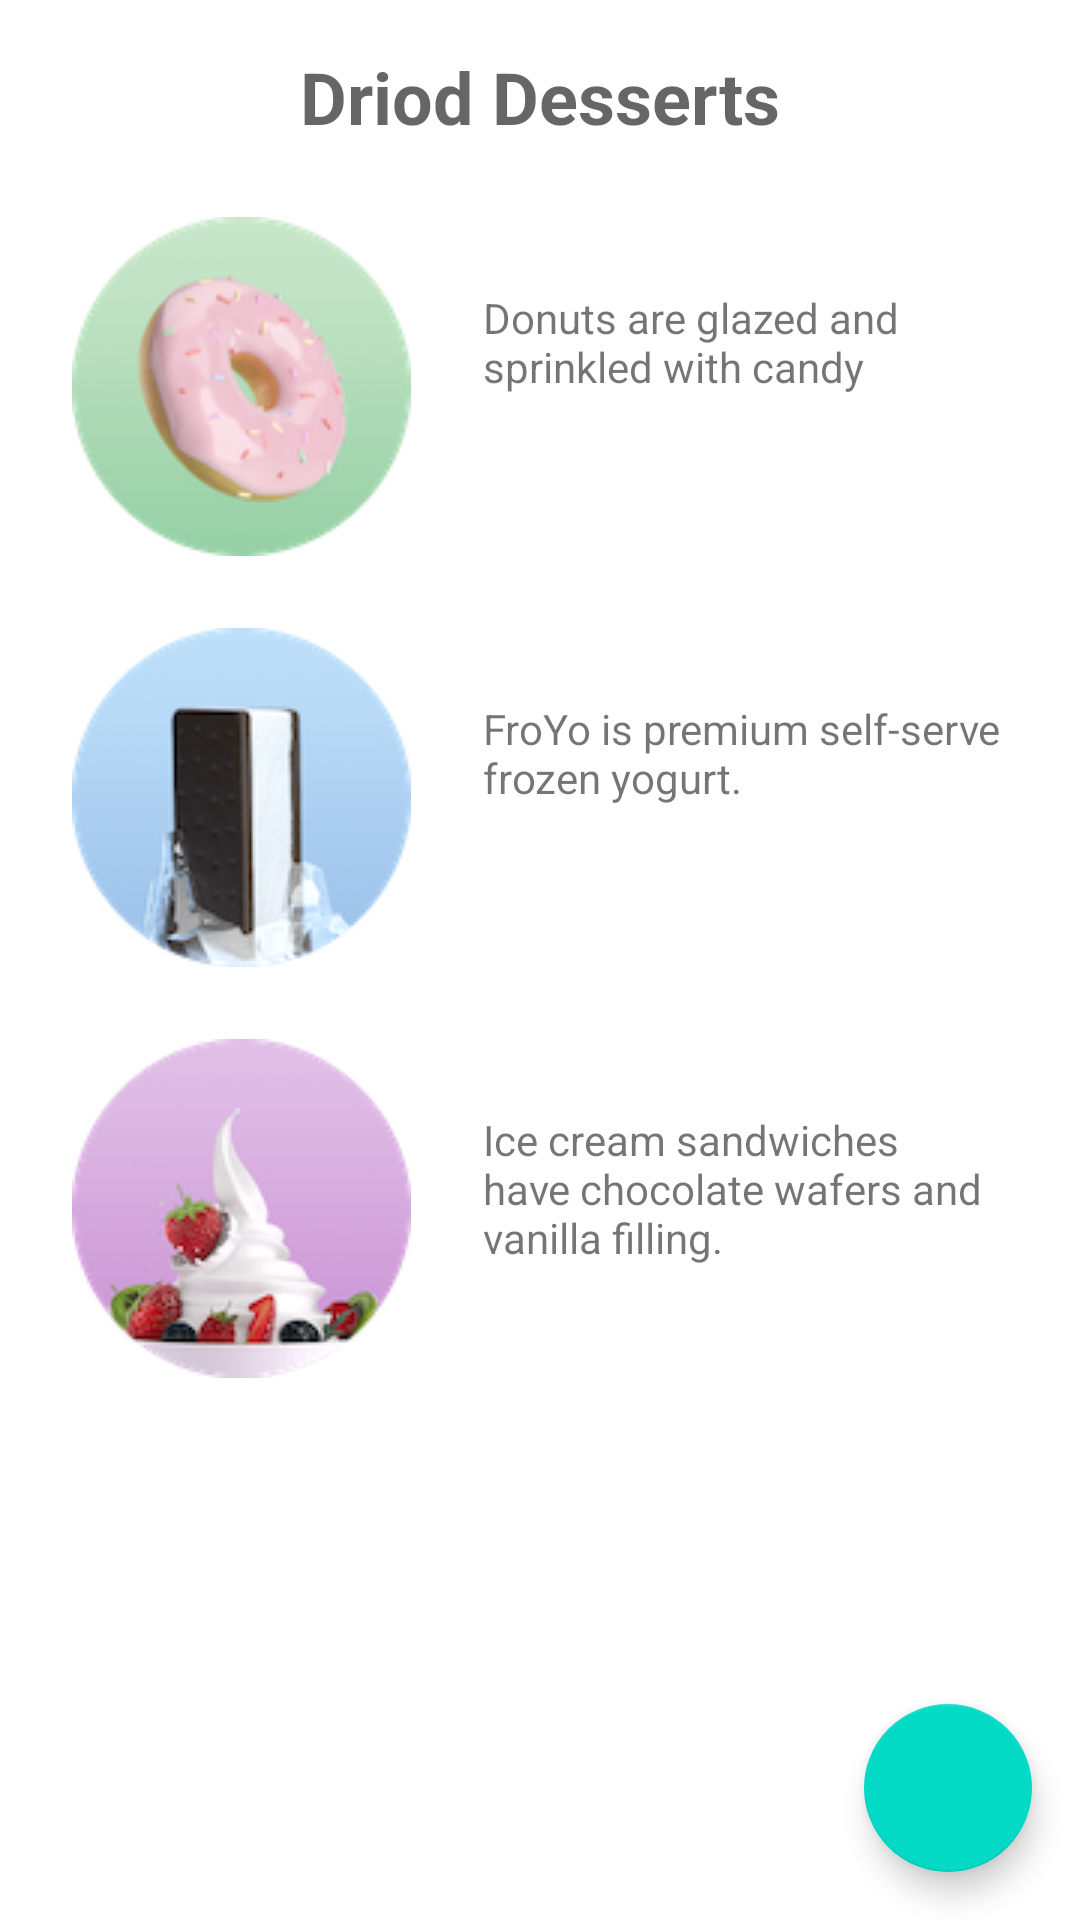

Locate icon controls on the screen. Image size 1080 × 1920, boxes as (left=x1, top=y1, right=x2, bottom=y2).
FroYo is premium self-serve frozen yogurt: (left=72, top=1039, right=411, bottom=1378)
icecream circle: (left=72, top=628, right=411, bottom=967)
